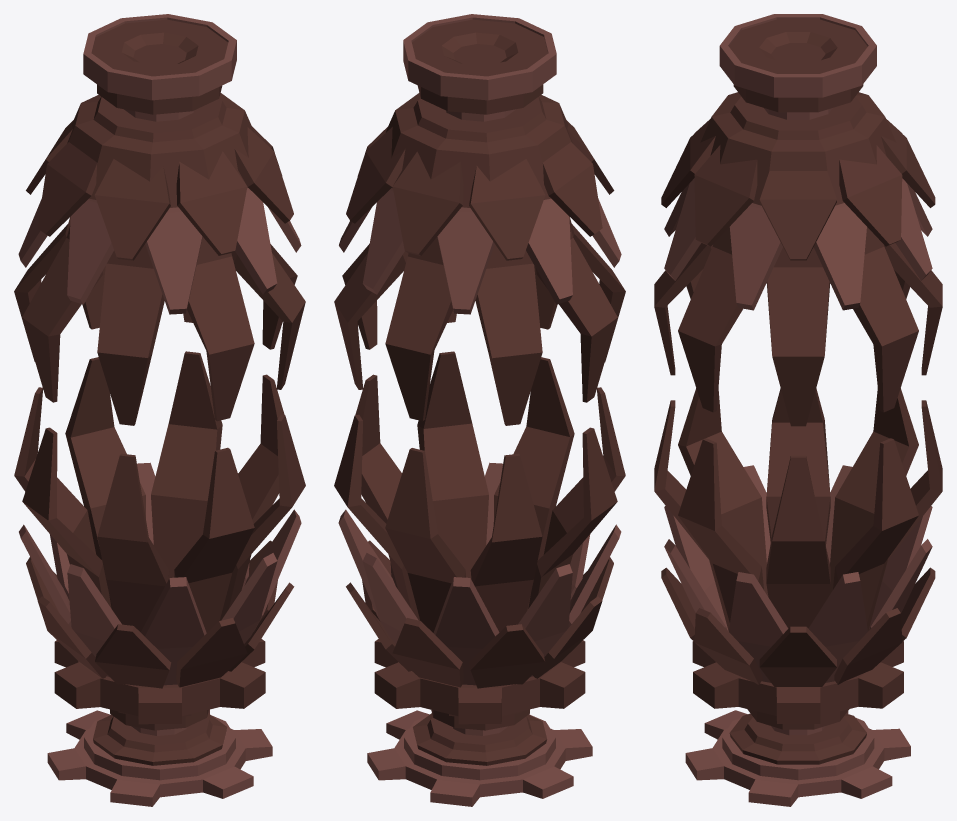
The model's file is teleporter5.glb.
3 views of the same model, side by side, from view 1: azimuth 30°, elevation 25°; view 2: azimuth 150°, elevation 25°; view 3: azimuth 270°, elevation 25° (orthographic).
Visible parts, largest first — view 1: _MeshInstance3D_221, _MeshInstance3D_220, _MeshInstance3D_219; view 2: _MeshInstance3D_221, _MeshInstance3D_220, _MeshInstance3D_219; view 3: _MeshInstance3D_221, _MeshInstance3D_220, _MeshInstance3D_219.
Boxes of the visible parts, x1,y1,x2,y2 form: _MeshInstance3D_221: (14, 14, 305, 425); _MeshInstance3D_220: (14, 351, 305, 724); _MeshInstance3D_219: (47, 709, 272, 806); _MeshInstance3D_221: (334, 14, 625, 425); _MeshInstance3D_220: (334, 351, 625, 724); _MeshInstance3D_219: (367, 709, 592, 806); _MeshInstance3D_221: (654, 14, 942, 426); _MeshInstance3D_220: (654, 388, 942, 723); _MeshInstance3D_219: (685, 709, 910, 806).
Size of the model in its own units: 1.76 by 4.82 by 1.76.
